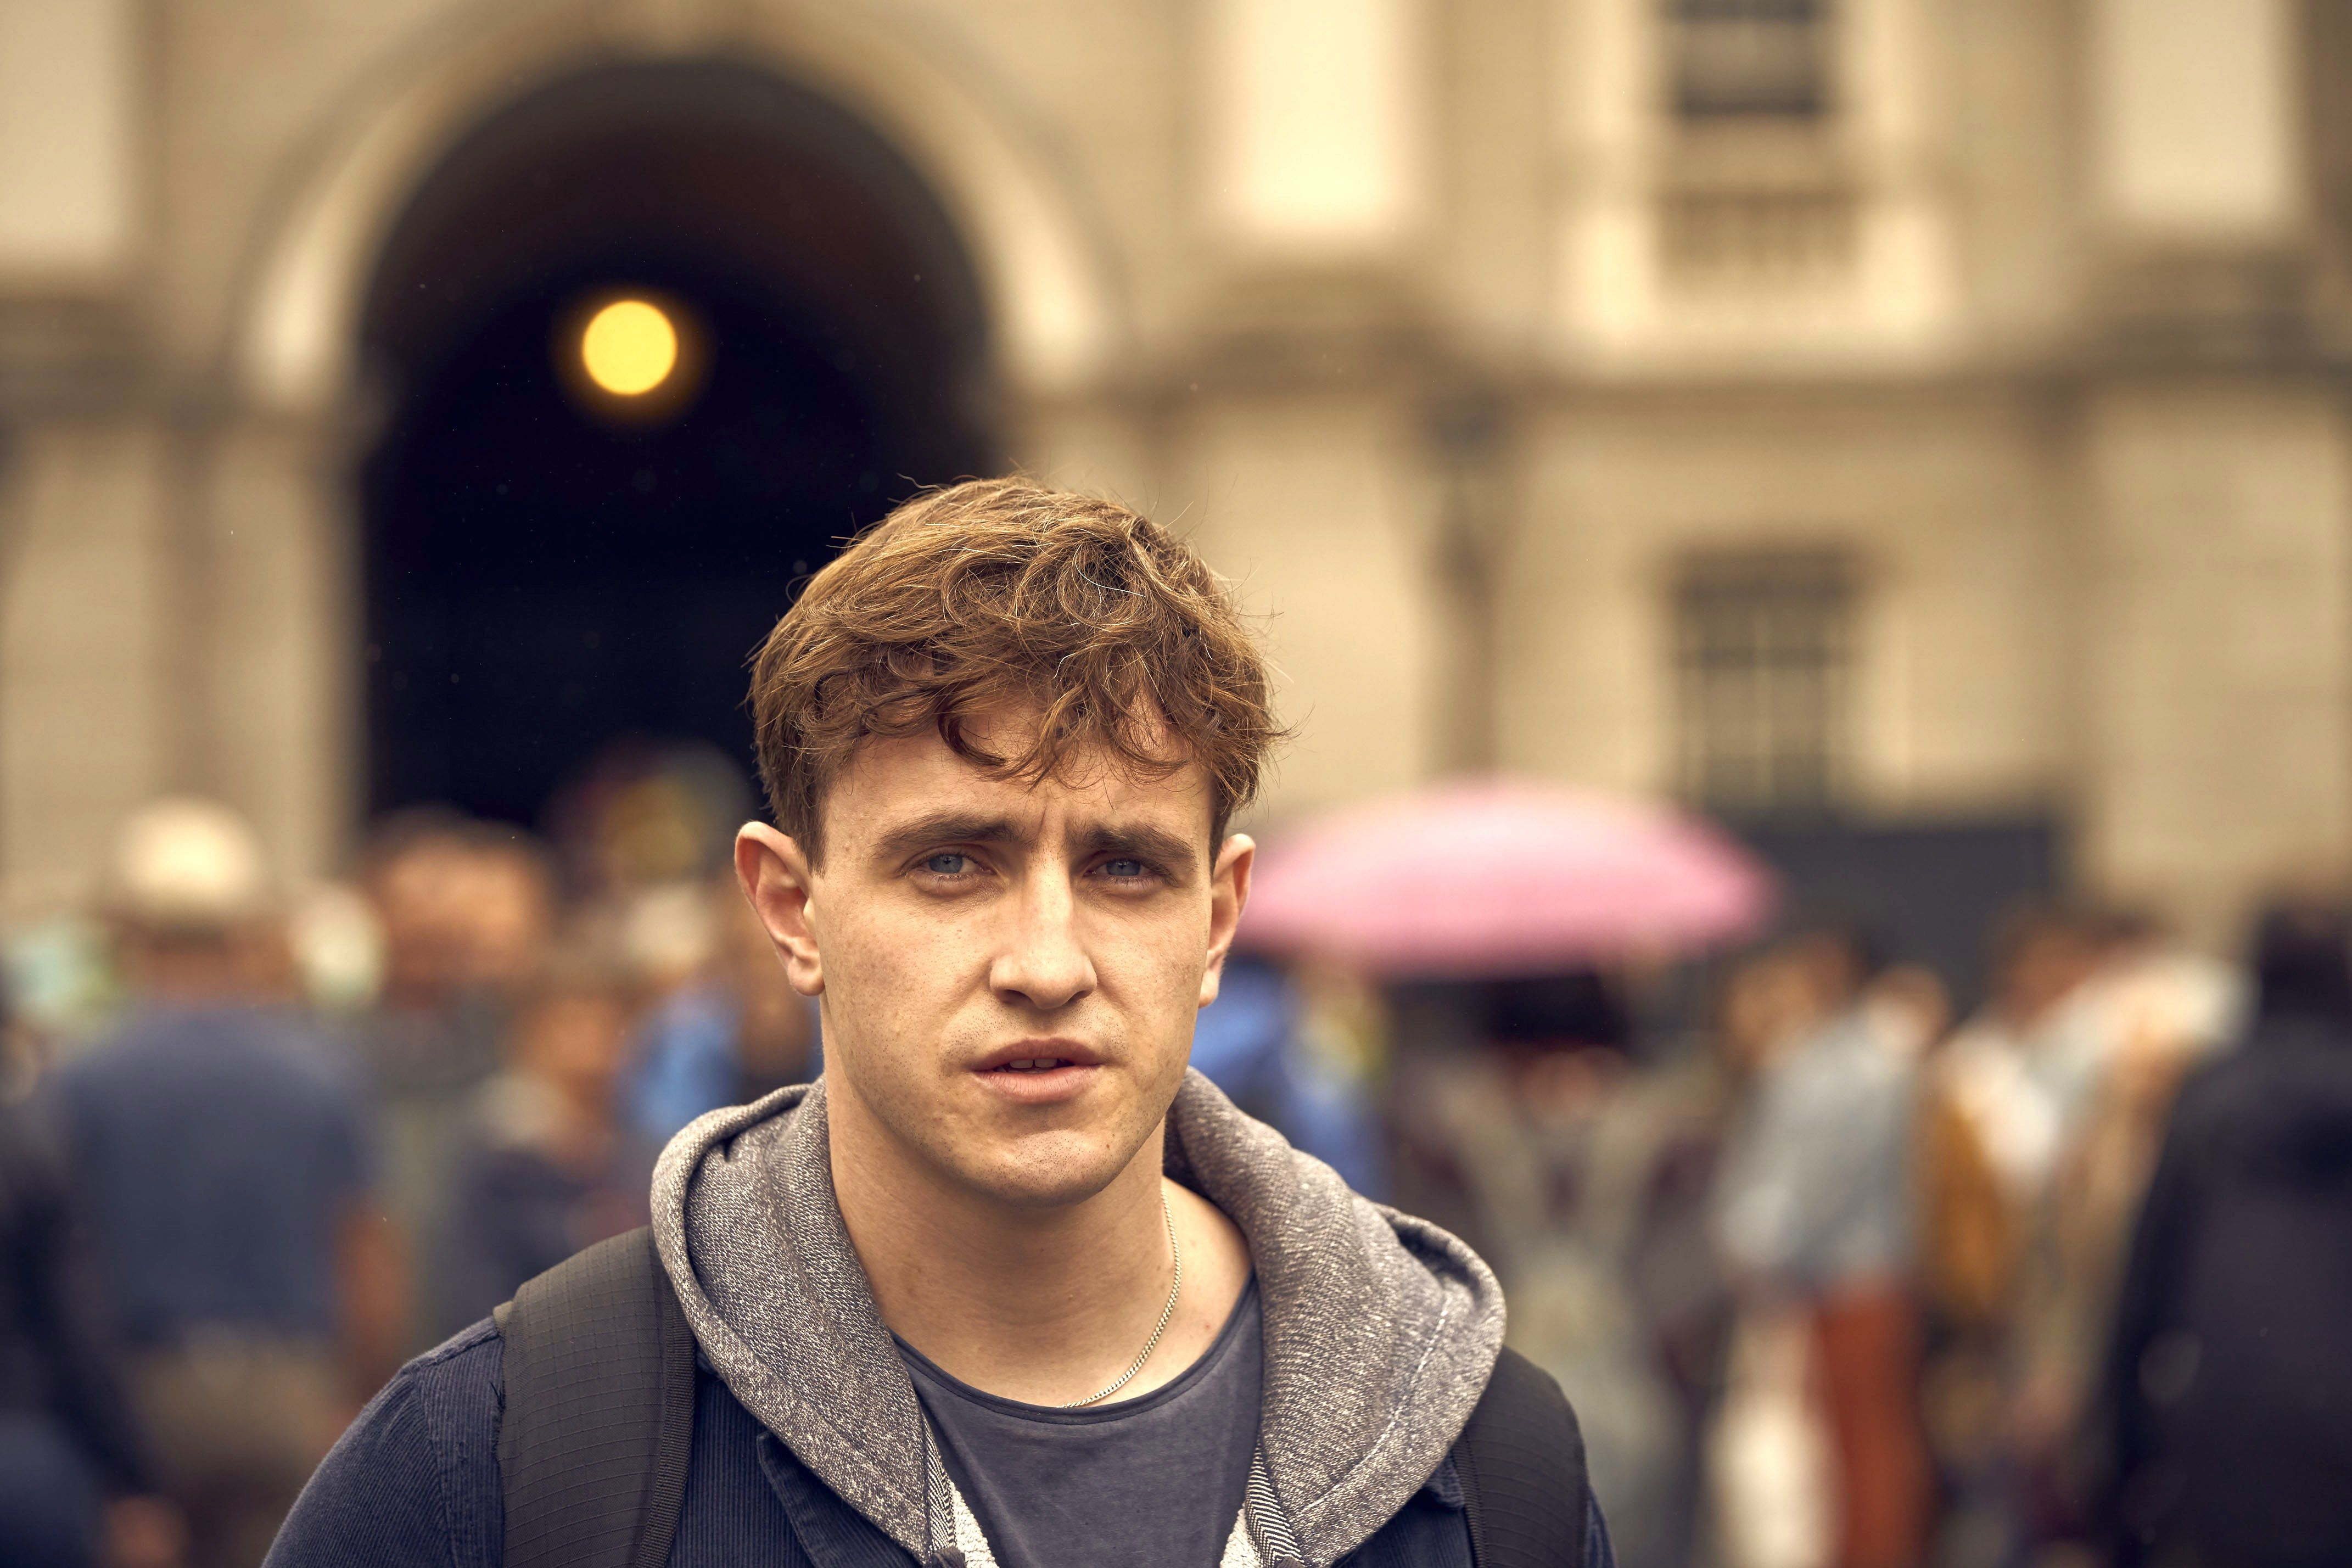NoMask: (871, 781, 1203, 1208)
